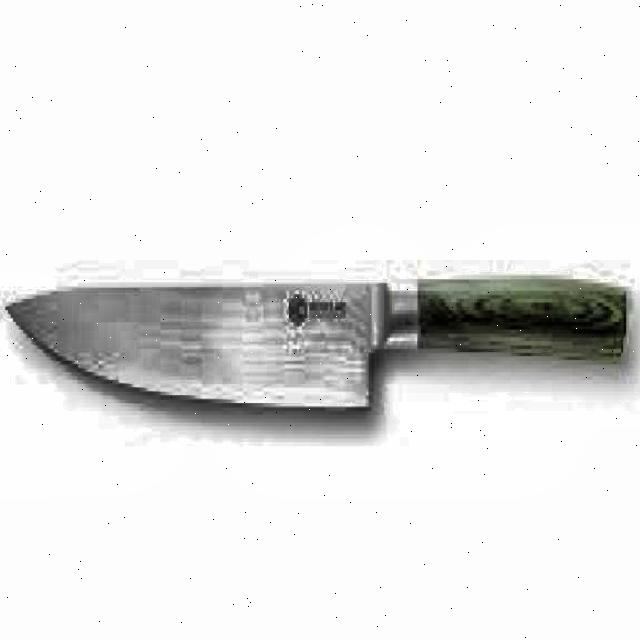knife: (0, 263, 639, 443)
